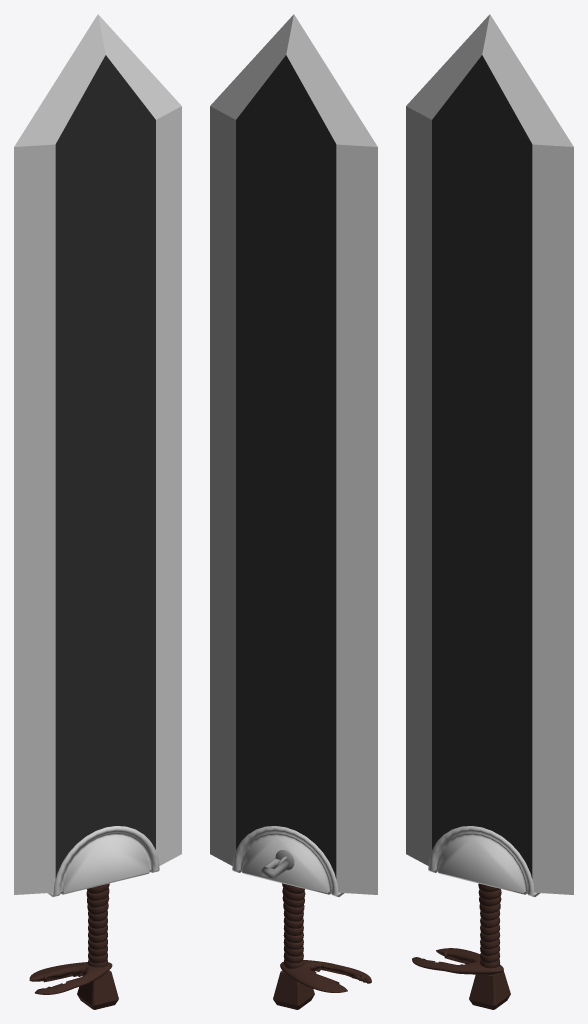
The model's file is DrSFinalJoin.fbx.
3 views of the same model, side by side, from view 1: azimuth 30°, elevation 25°; view 2: azimuth 150°, elevation 25°; view 3: azimuth 330°, elevation 25° (orthographic).
Parts seen in each view (by area): view 1: Pommel; view 2: Pommel; view 3: Pommel.
Part boxes in pixels (x1,y1,x2,y2): Pommel: (14,14,181,1009); Pommel: (210,14,377,1009); Pommel: (406,14,573,1009).
Bounding box in the file's own units: 1370 × 7704 × 573.
